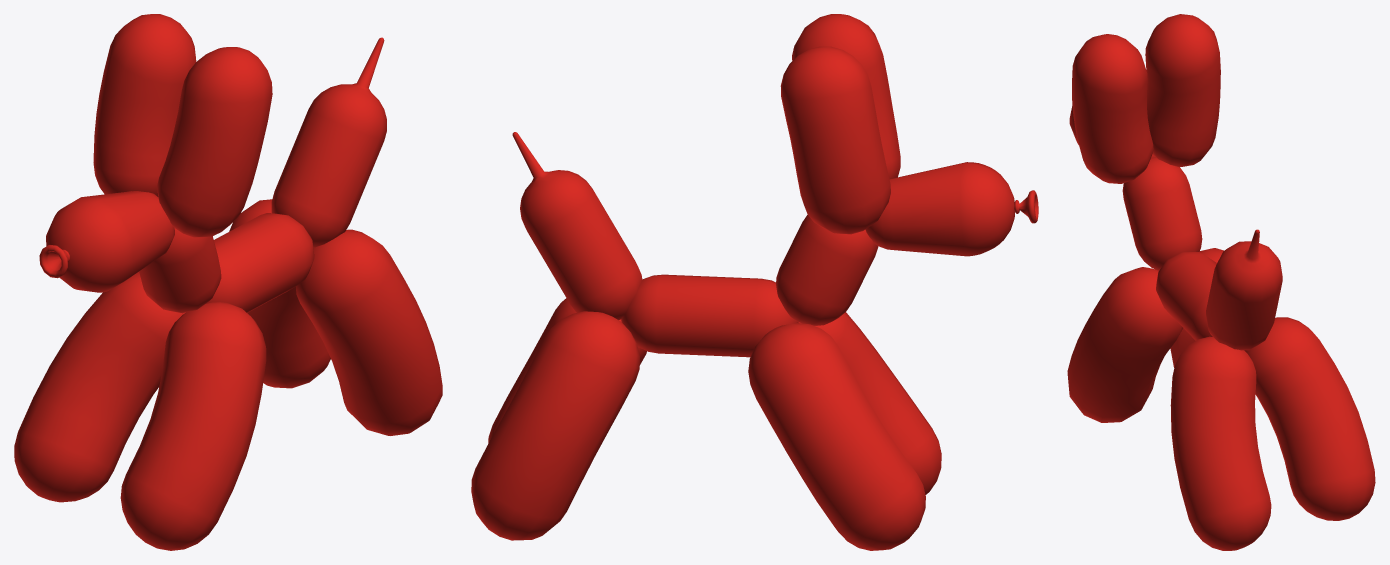
File: balloon_red.dae
3 views of the same model, side by side, from view 1: azimuth 30°, elevation 25°; view 2: azimuth 150°, elevation 25°; view 3: azimuth 270°, elevation 25° (orthographic). The views are drawn at different scales.
Visible parts, largest first — view 1: dog_01; view 2: dog_01; view 3: dog_01.
Part boxes in pixels (bbox=[...]): dog_01: bbox=[14, 14, 442, 550]; dog_01: bbox=[471, 14, 1038, 550]; dog_01: bbox=[1067, 14, 1375, 550].
Size of the model in its own units: 1.79 by 1.2 by 1.8.
